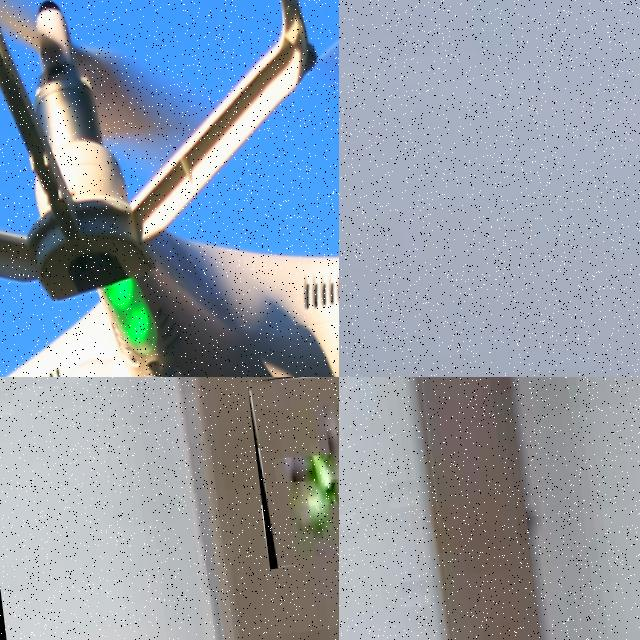drone: (0, 0, 339, 377), (247, 377, 339, 568)
